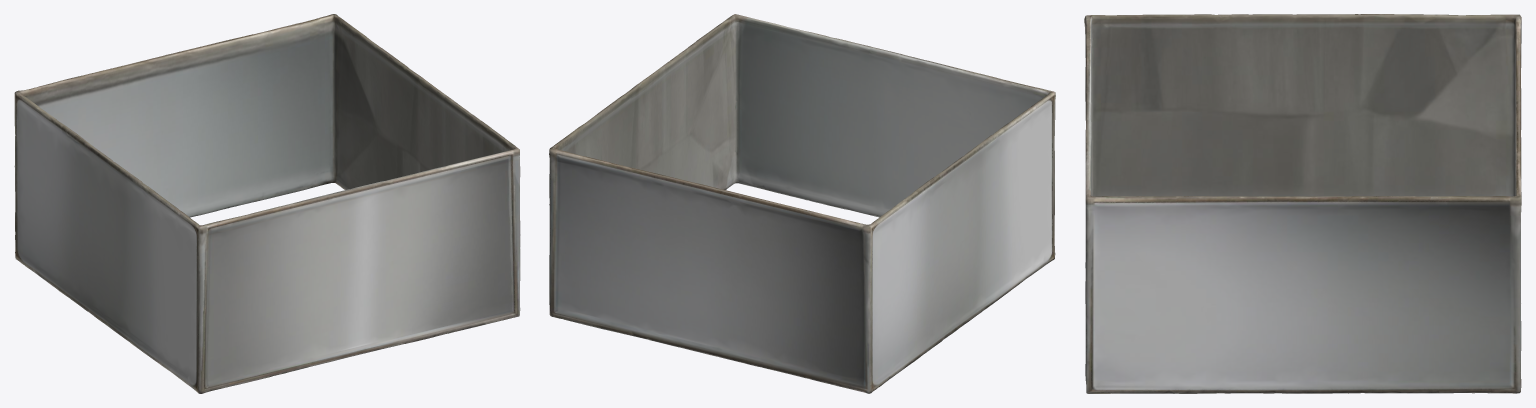
The picture shows the model from 3 angles, left to right: view 1: azimuth 30°, elevation 25°; view 2: azimuth 150°, elevation 25°; view 3: azimuth 270°, elevation 25°; orthographic projection. The views are drawn at different scales.
Parts seen in each view (by area): view 1: Mesh1.0; view 2: Mesh1.0; view 3: Mesh1.0.
Part boxes in pixels (x1,y1,x2,y2): Mesh1.0: (14,14,520,393); Mesh1.0: (549,14,1055,393); Mesh1.0: (1084,14,1521,393).
Size of the model in its own units: 201 by 100 by 201.
1 material, 1 textured.
